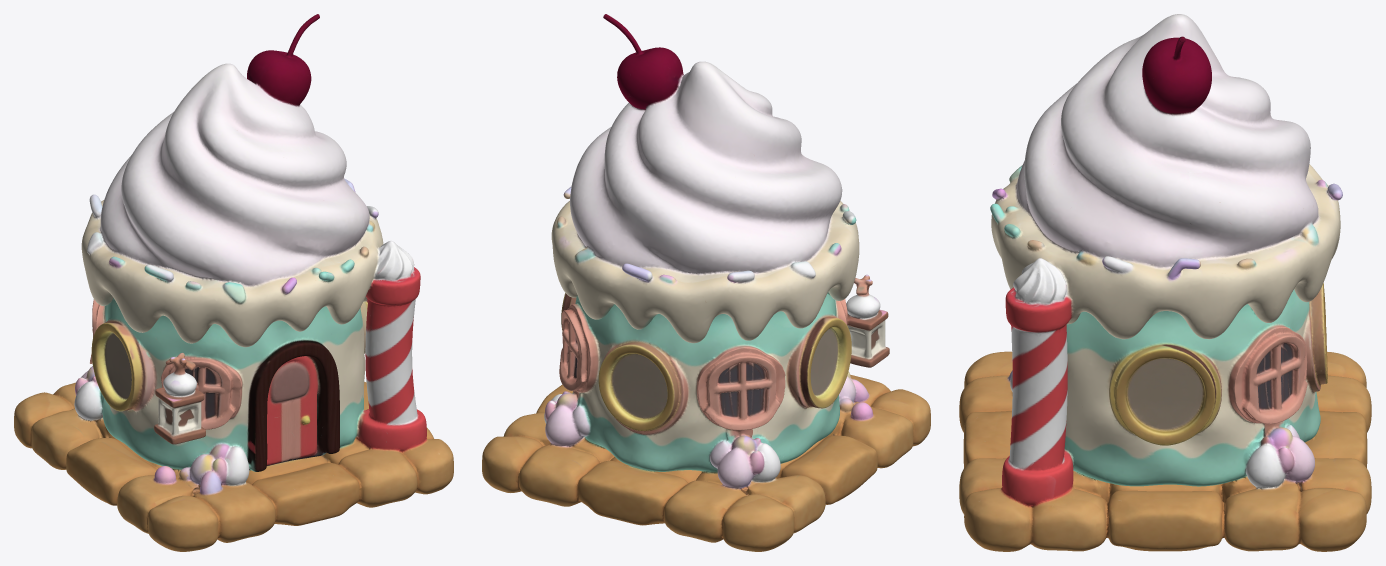
File: shop-barber-chantilly.glb
The picture shows the model from 3 angles, left to right: view 1: azimuth 30°, elevation 25°; view 2: azimuth 150°, elevation 25°; view 3: azimuth 270°, elevation 25°; orthographic projection. The views are drawn at different scales.
Size of the model in its own units: 1.4 by 1.9 by 1.45.
1 material, 1 textured.
